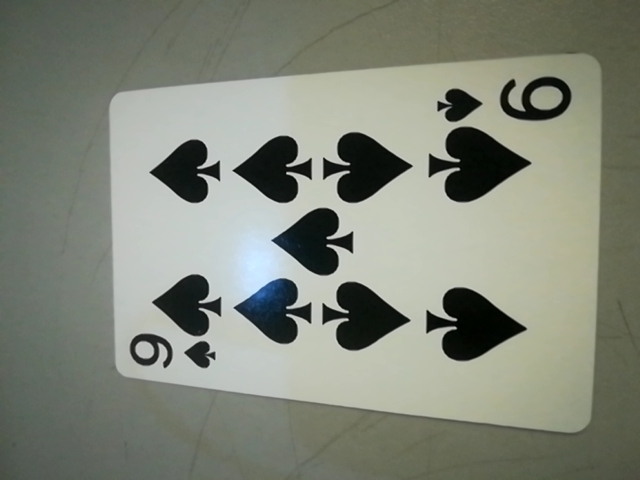ht 9: (435, 69, 586, 128)
